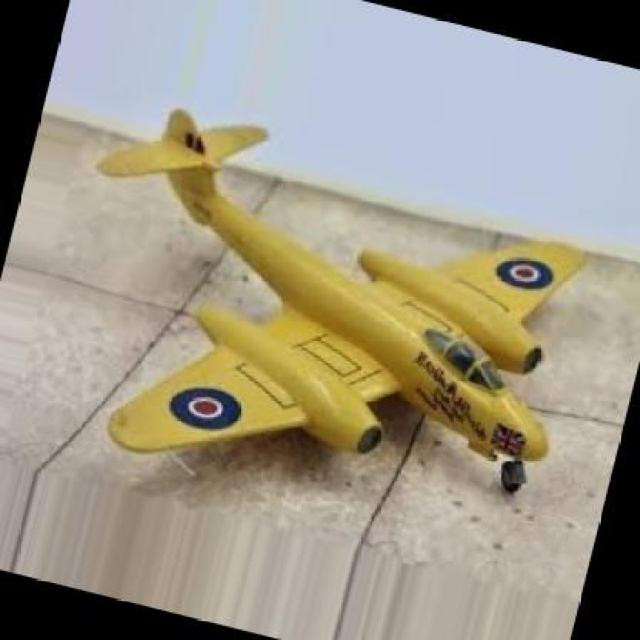iha: (94, 104, 597, 508)
